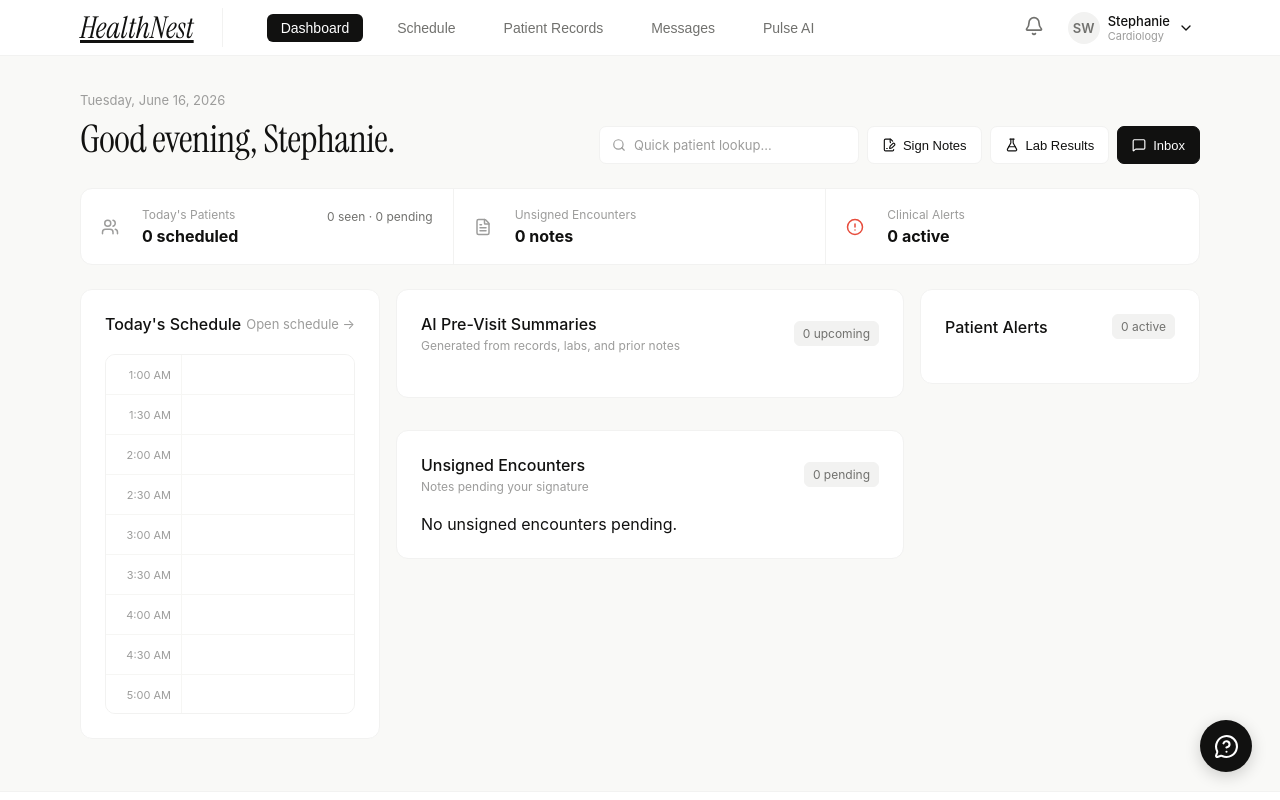
DoctorDashboard › appointments tab lists appointments with this patient
The image size is (1280, 800).
(page scrolled)
In the field labelled "Quick patient lookup": (740, 145) top-left (634, 137), bottom-right (846, 153), type "Alex"
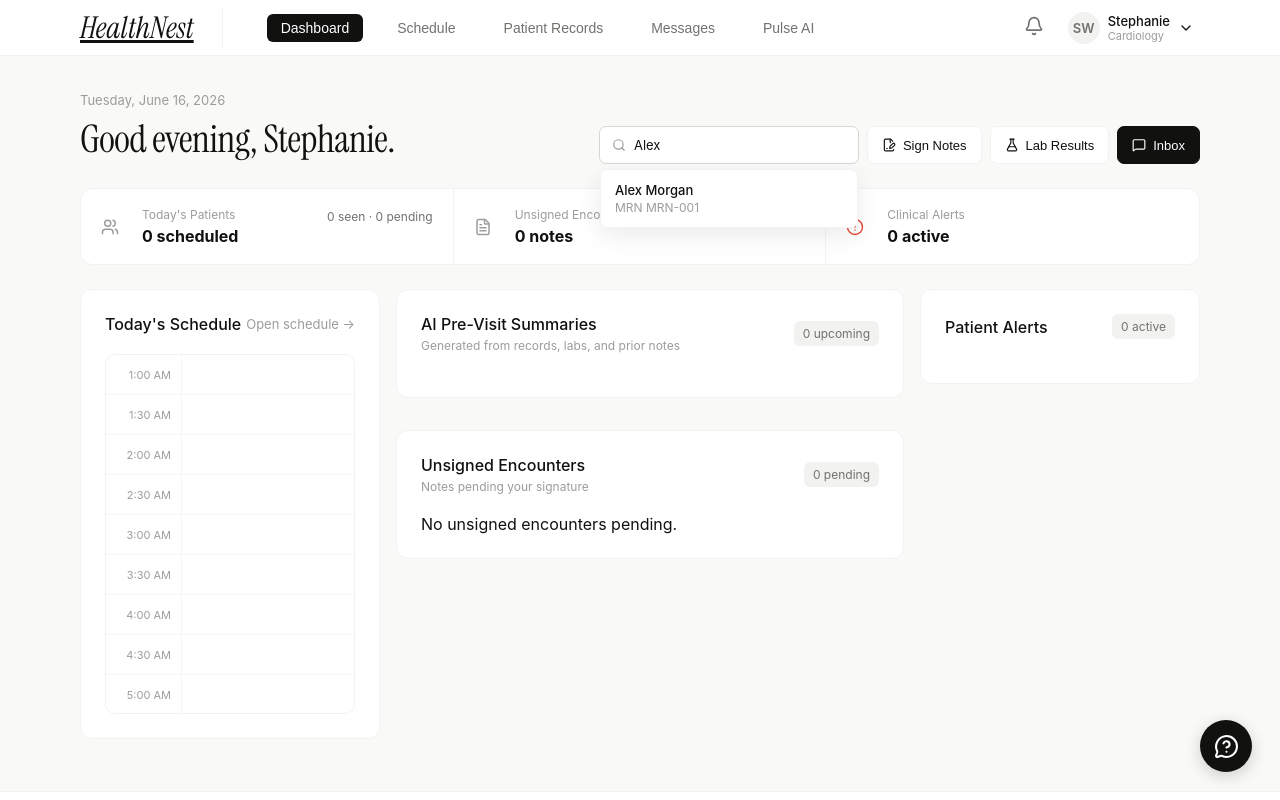
Click the text "Alex Morgan": (654, 190) top-left (615, 182), bottom-right (693, 198)
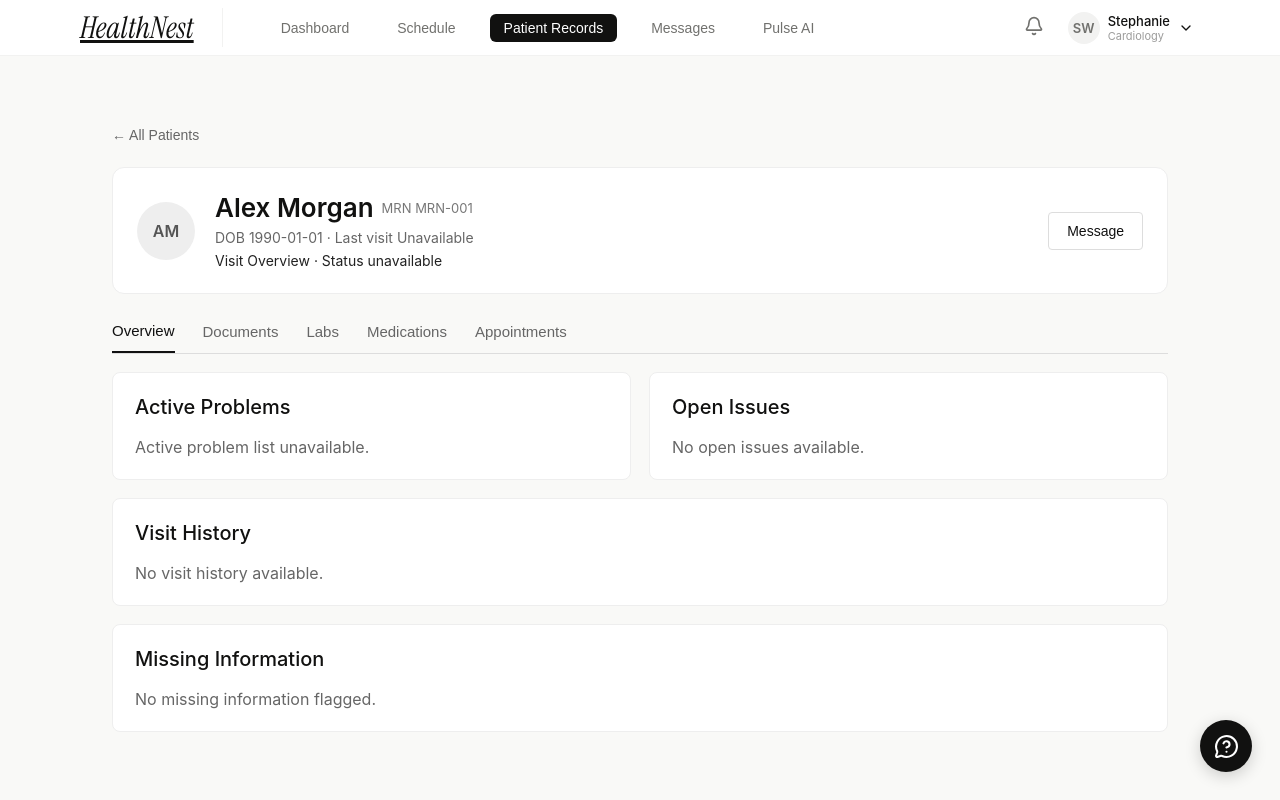
Now the heading "Alex Morgan" is shown, box top-left (215, 192), bottom-right (374, 223)
Click the button "Appointments": (521, 338) top-left (475, 322), bottom-right (567, 353)
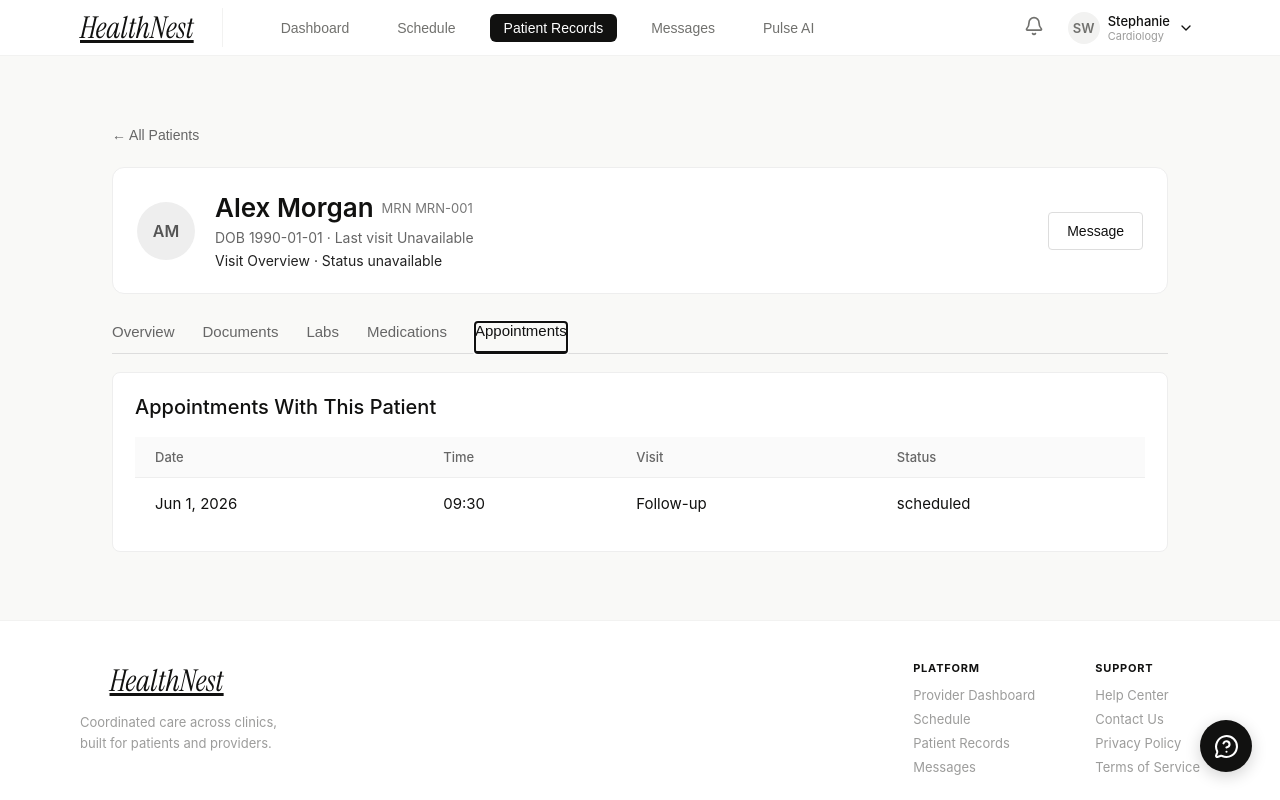
Now the heading "Appointments With This Patient" is shown, box top-left (135, 395), bottom-right (436, 419)
Now the text "Follow-up" is shown, box top-left (616, 478), bottom-right (877, 529)
Now the text "Jun 1, 2026" is shown, box top-left (135, 478), bottom-right (423, 529)
